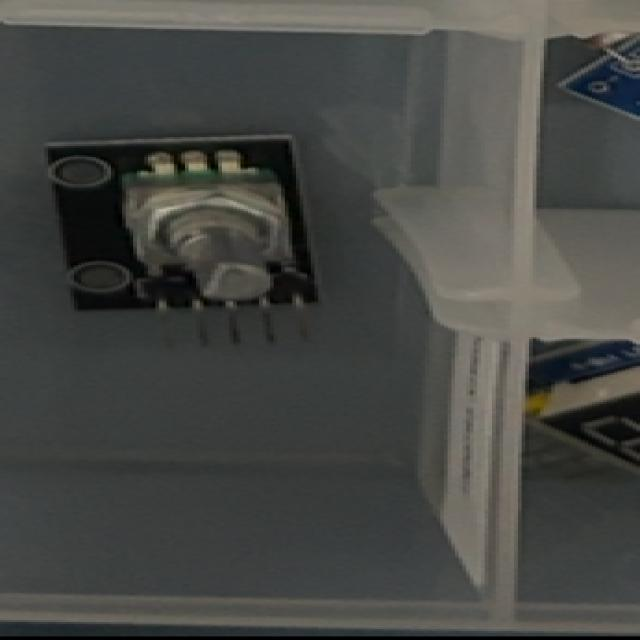Rotary Encoder: (50, 135, 333, 358)
